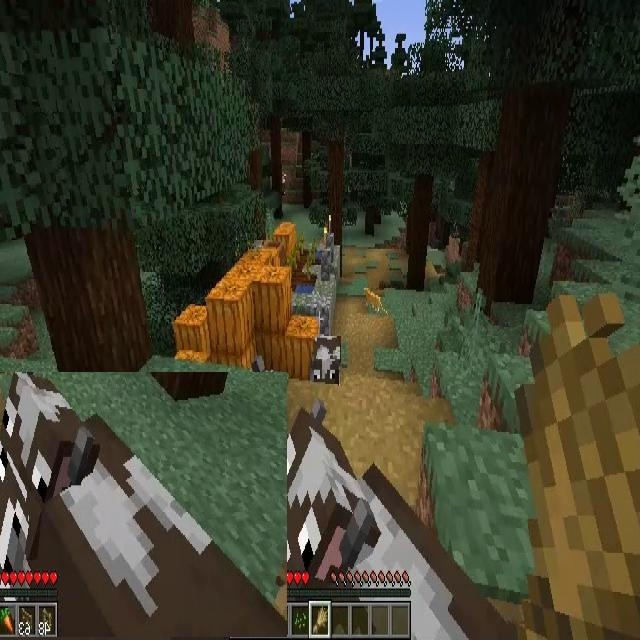cow: (0, 372, 287, 637), (269, 406, 524, 640), (311, 336, 341, 388)
